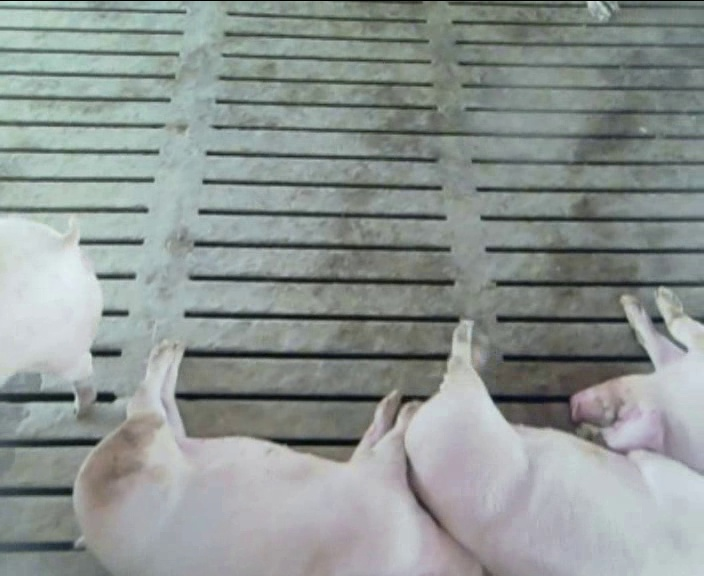pig: (74, 342, 480, 573), (405, 322, 703, 573), (570, 287, 703, 472)
